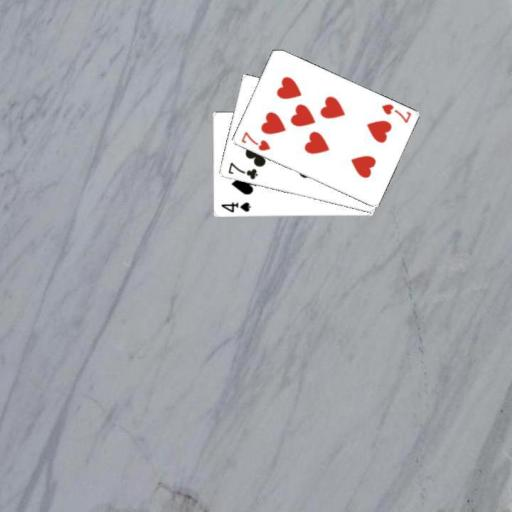4S: (218, 199, 252, 214)
7C: (225, 159, 259, 181)
7H: (238, 129, 272, 152), (379, 101, 413, 124)
